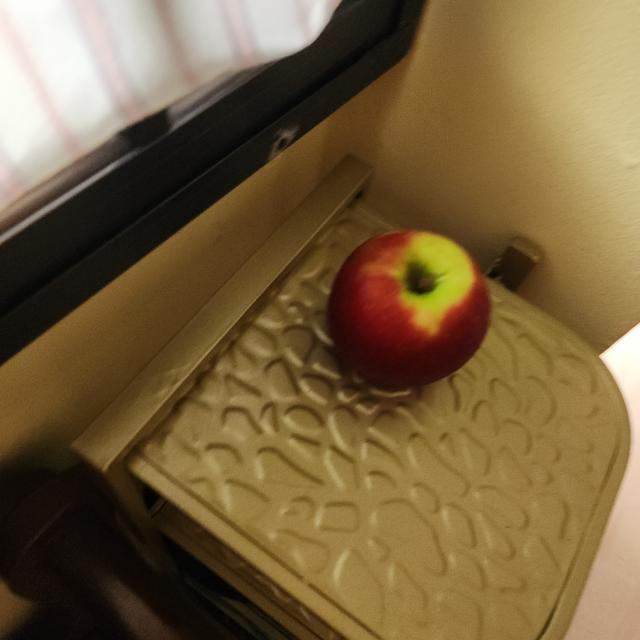apple: (319, 222, 501, 406)
